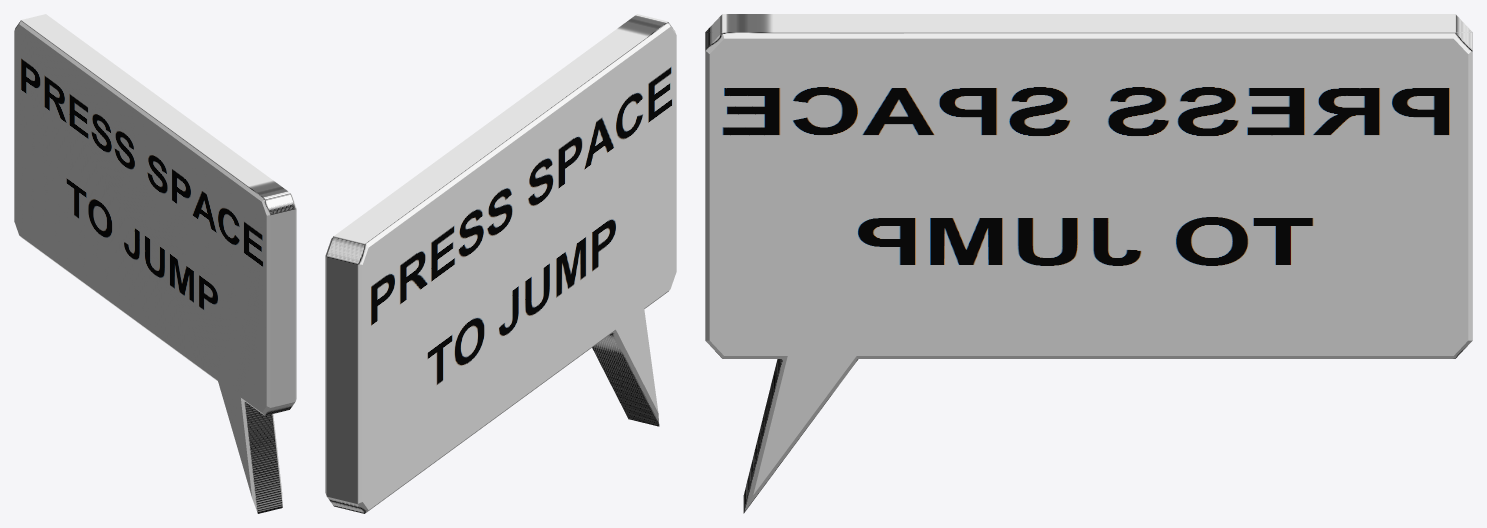
File: help.FBX
The picture shows the model from 3 angles, left to right: view 1: azimuth 30°, elevation 25°; view 2: azimuth 150°, elevation 25°; view 3: azimuth 270°, elevation 25°; orthographic projection. The views are drawn at different scales.
Visible parts, largest first — view 1: Line001; view 2: Line001; view 3: Line001.
Boxes of the visible parts, box(x1,y1,x2,y2) form: Line001: box(14, 14, 296, 513); Line001: box(325, 14, 676, 513); Line001: box(705, 14, 1472, 513).
Size of the model in its own units: 13.53 by 139 by 200.
